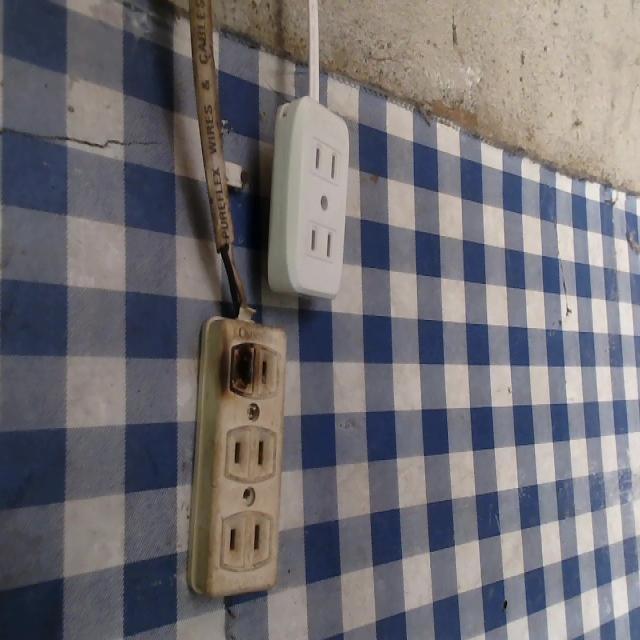-: (223, 331, 261, 405)
